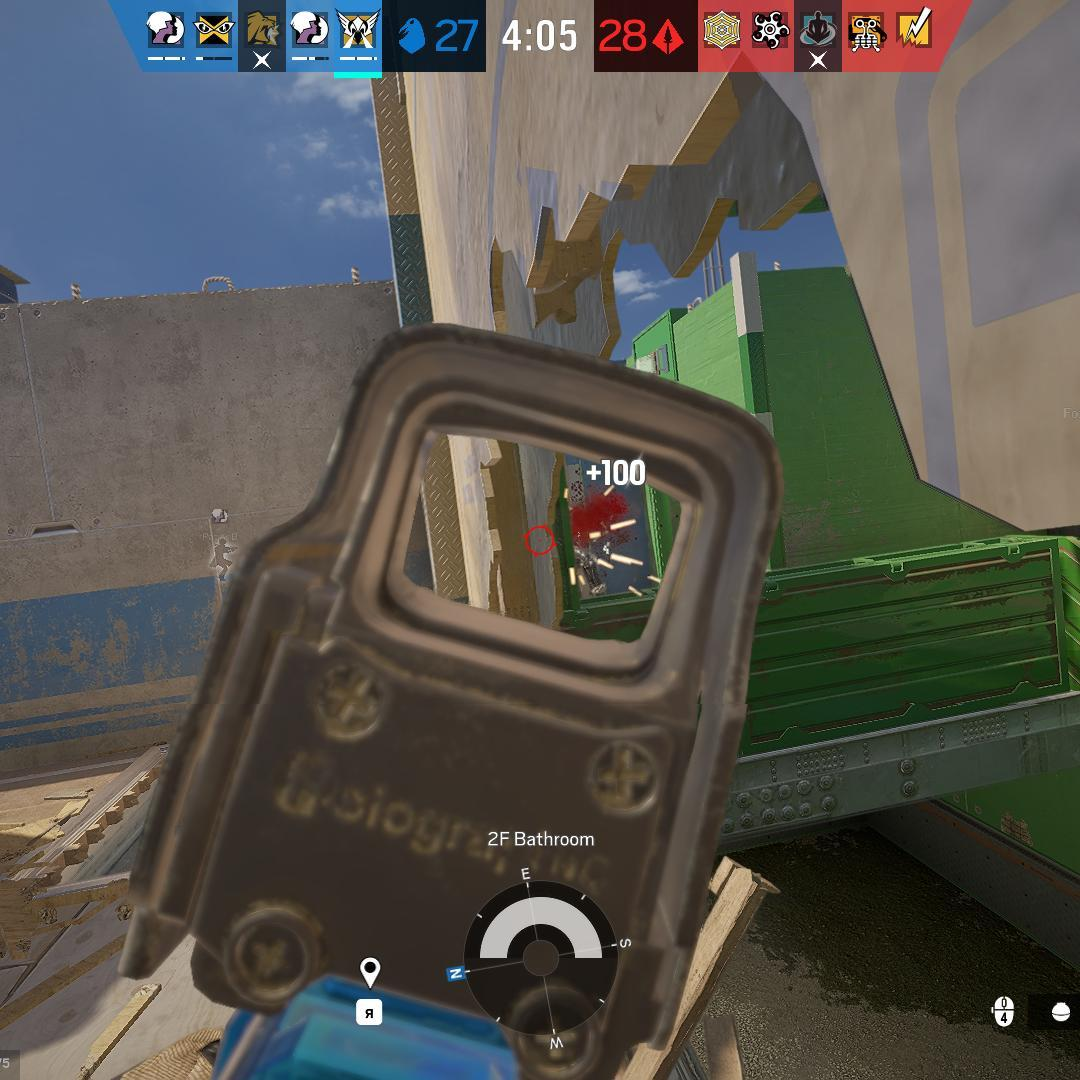Character: (569, 537, 611, 600)
Friend_label: (198, 507, 241, 542)
